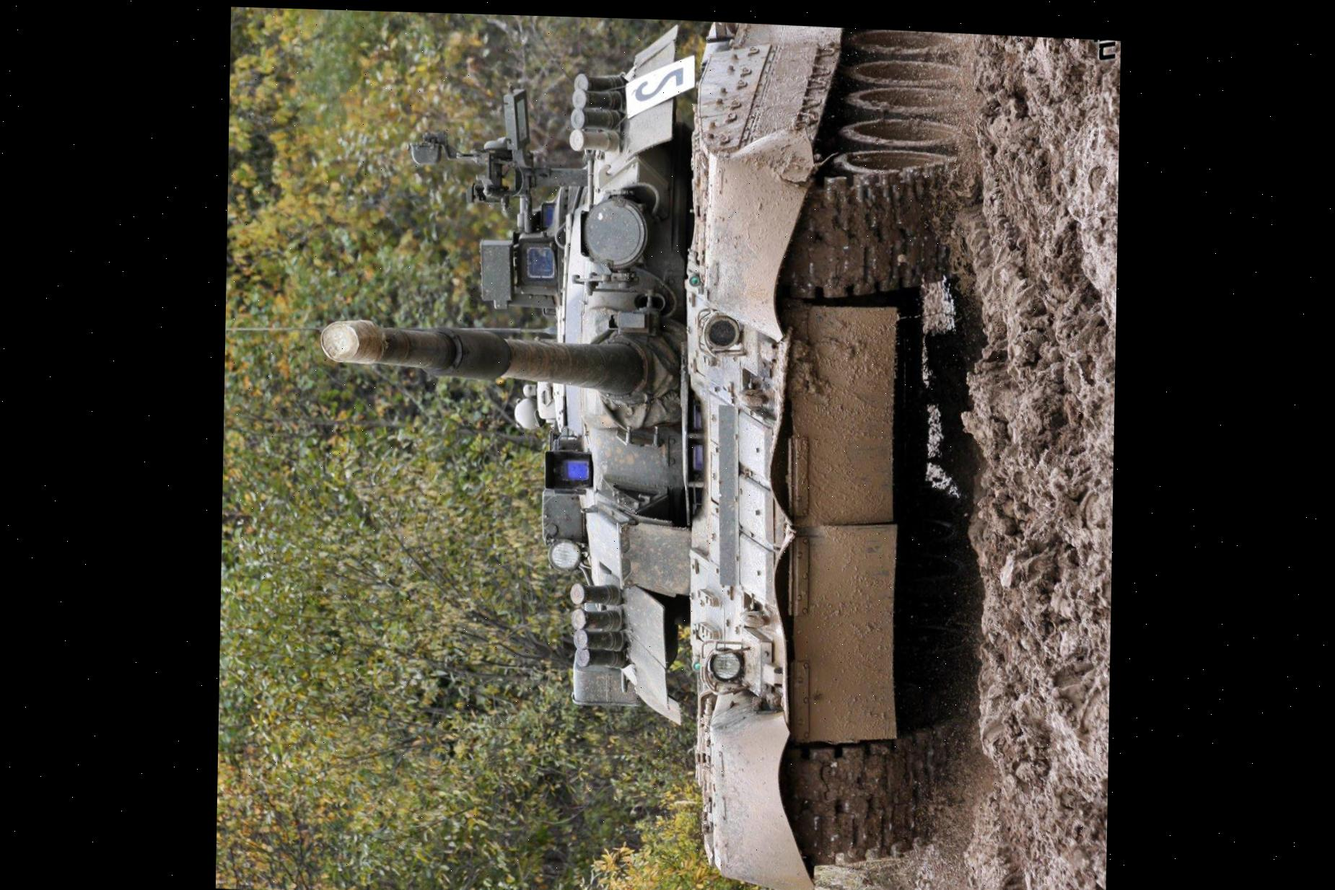tank: (307, 9, 986, 890)
